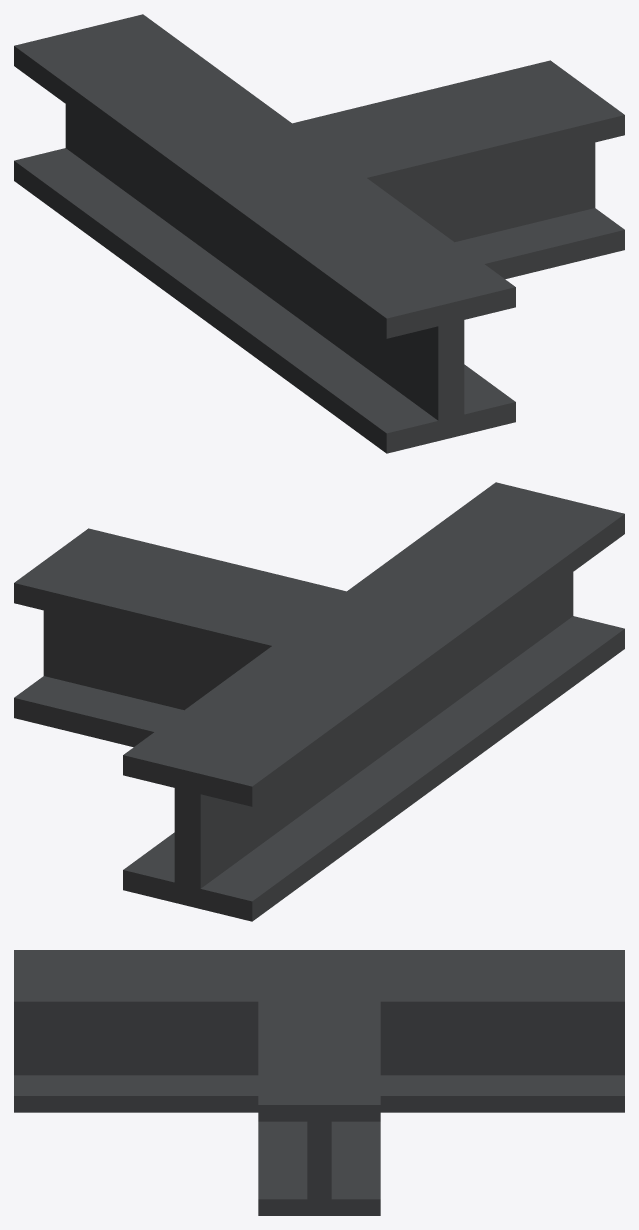
The model's file is T_Träger_T.obj.
The picture shows the model from 3 angles, top to bottom: view 1: azimuth 30°, elevation 25°; view 2: azimuth 150°, elevation 25°; view 3: azimuth 270°, elevation 25°; orthographic projection. The views are drawn at different scales.
Visible parts, largest first — view 1: T-Träger_2; view 2: T-Träger_2; view 3: T-Träger_2.
Boxes of the visible parts, left/top/right/bottom form: T-Träger_2: left=14, top=14, right=624, bottom=453; T-Träger_2: left=14, top=482, right=624, bottom=921; T-Träger_2: left=14, top=950, right=624, bottom=1215.
Size of the model in its own units: 1.2 by 0.4 by 2.
